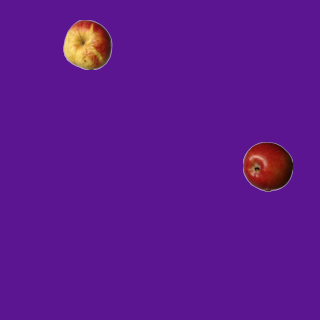Apple Braeburn: (242, 141, 292, 191)
Apple Red Yellow 1: (62, 19, 112, 69)
